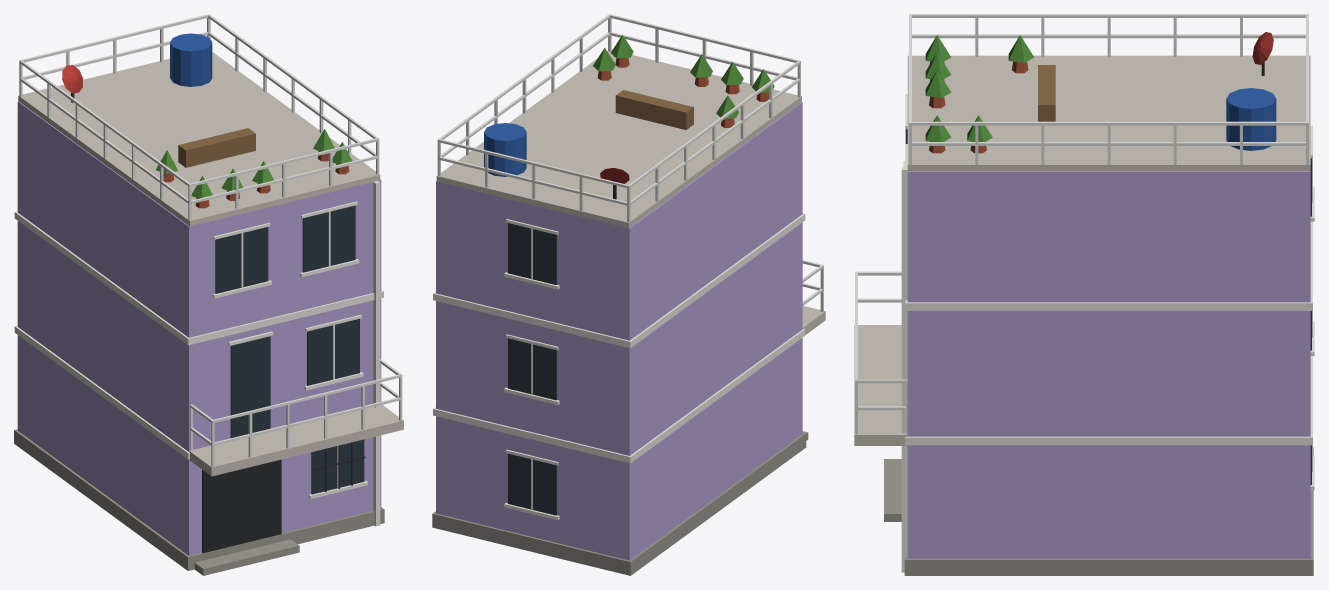
Rendered from BAY_F_ThreeStorey_I.glb.
3 views of the same model, side by side, from view 1: azimuth 30°, elevation 25°; view 2: azimuth 150°, elevation 25°; view 3: azimuth 270°, elevation 25° (orthographic). The views are drawn at different scales.
Parts seen in each view (by area): view 1: BAY_F_ThreeStorey_I; view 2: BAY_F_ThreeStorey_I; view 3: BAY_F_ThreeStorey_I.
Boxes of the visible parts, x1,y1,x2,y2 form: BAY_F_ThreeStorey_I: [14, 14, 403, 575]; BAY_F_ThreeStorey_I: [432, 14, 825, 575]; BAY_F_ThreeStorey_I: [854, 14, 1314, 575].
Bounding box in the file's own units: 4.5 × 8.4 × 7.77.
Materials: 1 (1 with a texture image).
